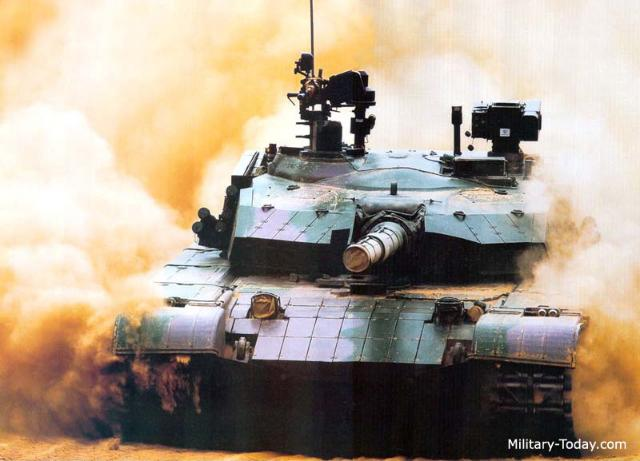tank: (119, 74, 575, 437)
